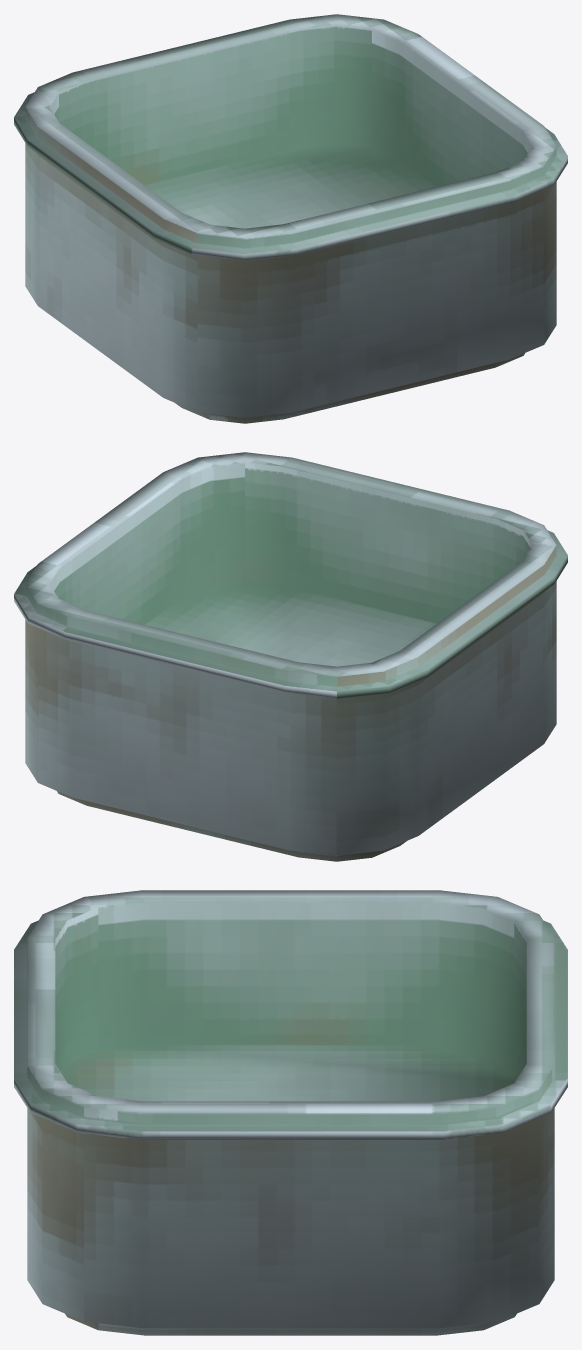
Rendered from tub1.fbx.
The picture shows the model from 3 angles, top to bottom: view 1: azimuth 30°, elevation 25°; view 2: azimuth 150°, elevation 25°; view 3: azimuth 270°, elevation 25°; orthographic projection. The views are drawn at different scales.
Visible parts, largest first — view 1: Tub1; view 2: Tub1; view 3: Tub1.
Part boxes in pixels (x1,y1,x2,y2): Tub1: [14, 14, 567, 423]; Tub1: [14, 452, 567, 861]; Tub1: [14, 890, 567, 1335].
Size of the model in its own units: 210 by 97.85 by 210.
